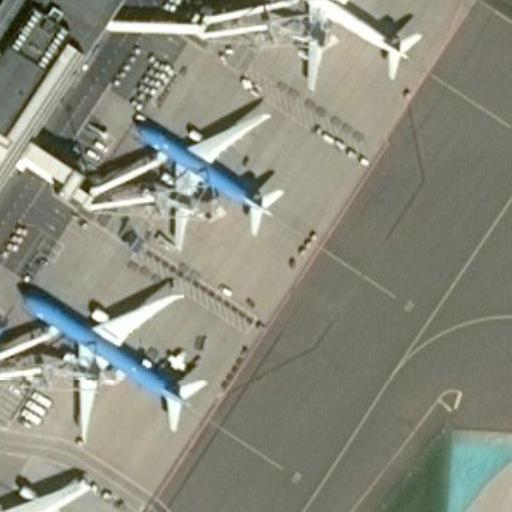Aircraft: (3, 272, 211, 439), (119, 105, 290, 248), (230, 0, 421, 86), (0, 462, 112, 512)
